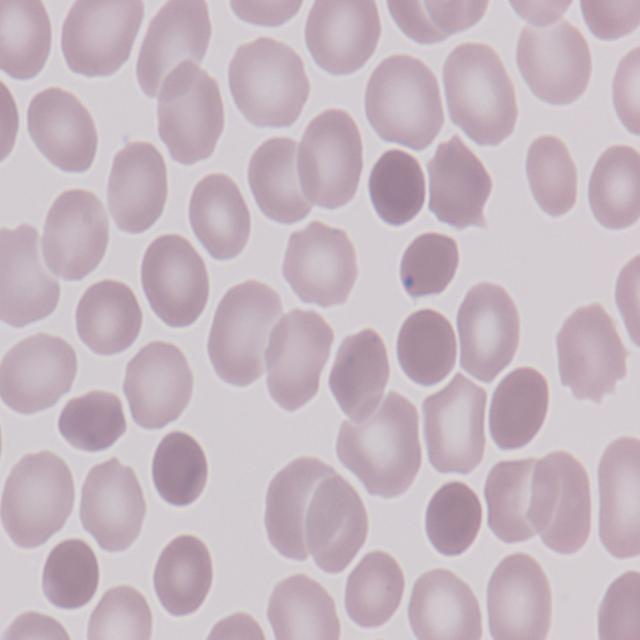RBC: (332, 394, 427, 502), (441, 37, 522, 149), (224, 31, 309, 134), (359, 50, 444, 151), (204, 276, 276, 389), (0, 448, 76, 555), (152, 60, 228, 166), (258, 307, 332, 413), (513, 19, 595, 114), (415, 373, 489, 478), (554, 302, 630, 403), (76, 454, 150, 556), (38, 184, 112, 286), (121, 333, 196, 433), (57, 0, 146, 84), (278, 220, 359, 311), (134, 232, 210, 328), (258, 457, 325, 564), (456, 277, 524, 382), (294, 111, 364, 212), (26, 82, 100, 176), (0, 331, 78, 420), (304, 477, 372, 578), (102, 136, 168, 238), (422, 139, 493, 233), (484, 548, 556, 640), (182, 172, 252, 266), (301, 0, 383, 80), (0, 216, 59, 327), (246, 131, 314, 224), (533, 451, 595, 553), (329, 328, 396, 422), (403, 565, 484, 640), (73, 278, 146, 360), (593, 434, 640, 559), (152, 531, 217, 619), (340, 548, 406, 634), (260, 571, 341, 640), (584, 142, 640, 234), (56, 385, 128, 455), (0, 0, 58, 84), (522, 134, 580, 218), (82, 585, 155, 640), (605, 40, 640, 141), (595, 566, 640, 640), (574, 0, 640, 42), (613, 251, 640, 353), (193, 608, 276, 640), (233, 0, 312, 31), (0, 78, 24, 177), (0, 609, 76, 640), (502, 0, 582, 29)
Spherocyte: (486, 359, 553, 454), (390, 304, 458, 390), (34, 536, 102, 618), (363, 146, 427, 228), (150, 428, 211, 512), (422, 476, 482, 560), (396, 230, 459, 304)
